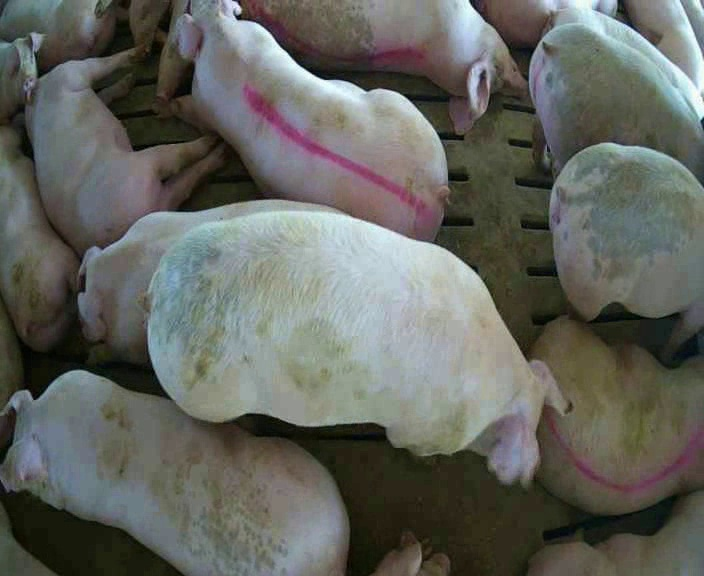pig: (149, 212, 566, 481), (171, 3, 447, 240), (78, 200, 341, 364), (26, 48, 222, 253), (241, 2, 526, 133), (532, 317, 703, 514), (550, 143, 703, 363), (529, 25, 703, 182), (528, 490, 703, 574), (624, 1, 703, 95), (0, 32, 43, 123)
